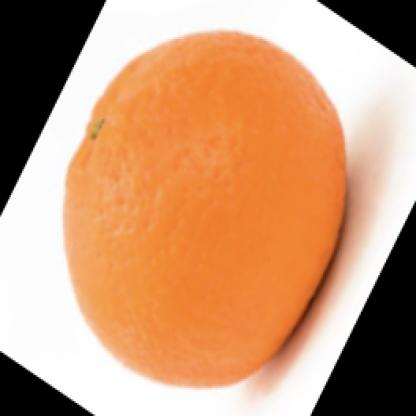fresh: (65, 33, 344, 393)
